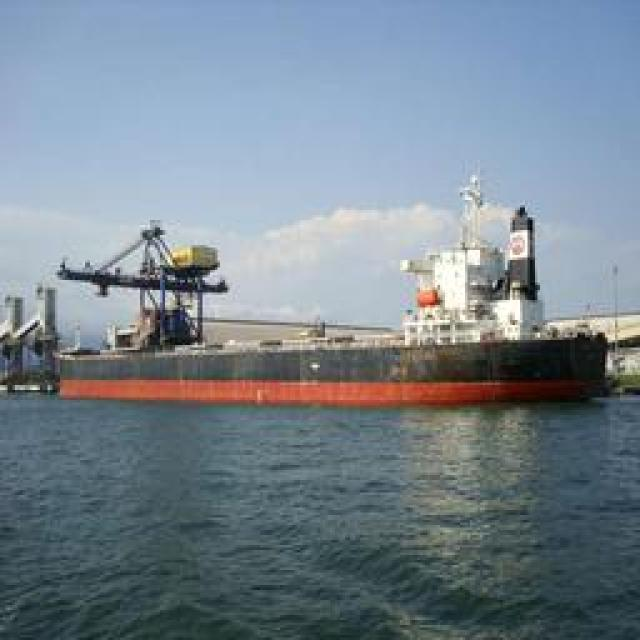ship2: (60, 186, 611, 408)
